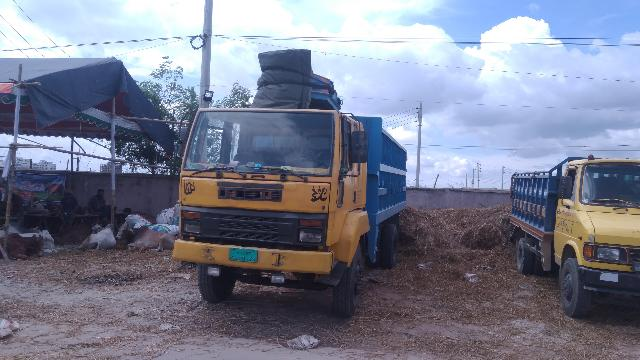truck: (170, 62, 418, 307), (503, 159, 640, 339)
